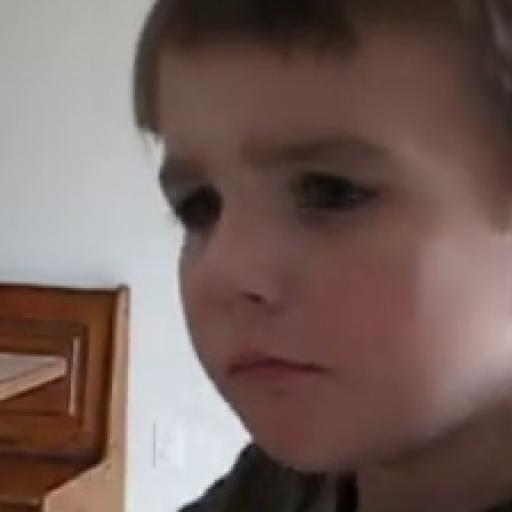Autism: (120, 13, 512, 500)
